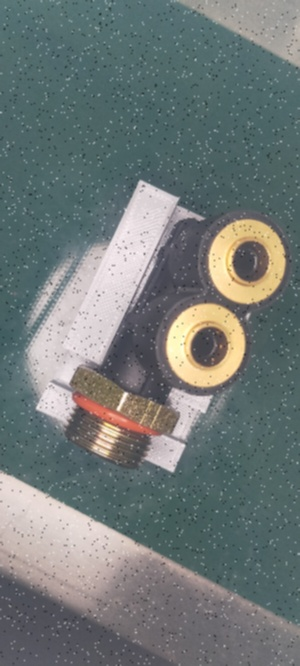craze: (140, 370, 152, 395)
